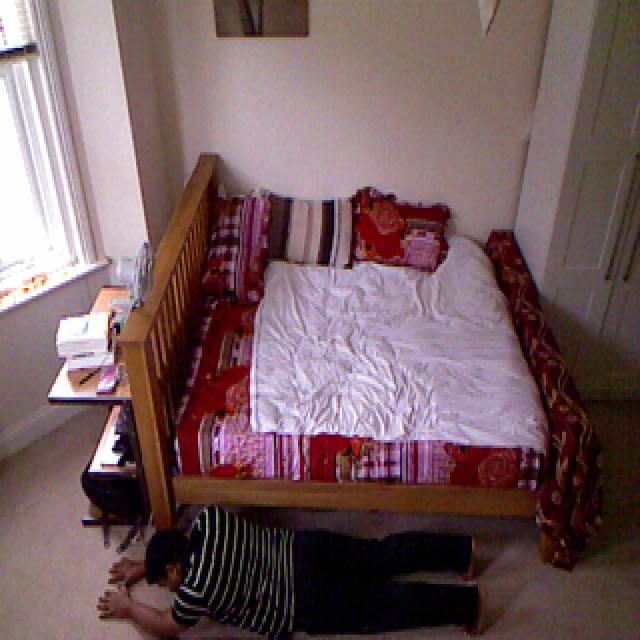lying: (93, 502, 501, 640)
